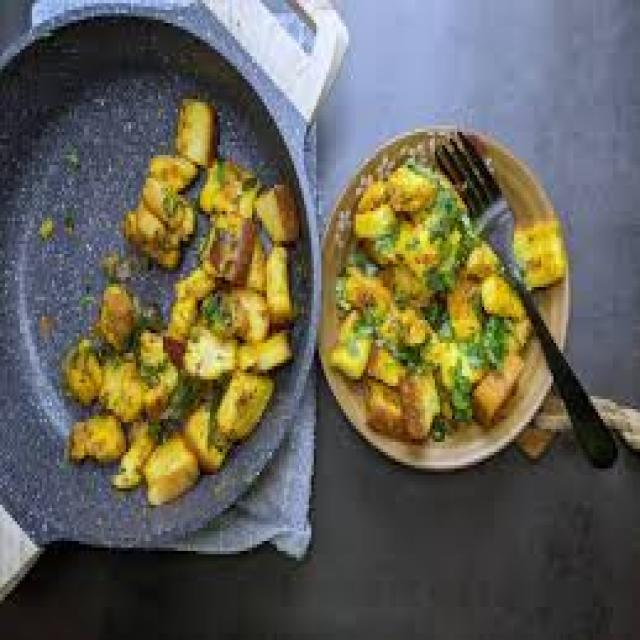UPMA: (54, 99, 294, 501), (321, 155, 531, 439)
